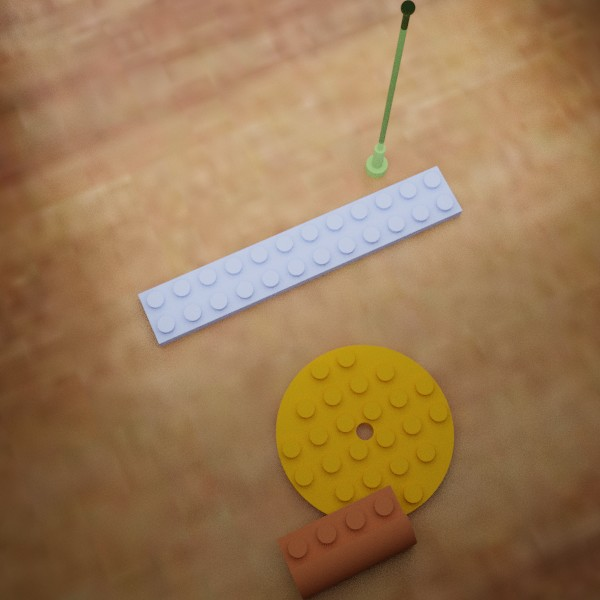lego: (138, 165, 462, 346), (276, 344, 454, 523), (276, 484, 416, 599), (365, 0, 415, 178)
